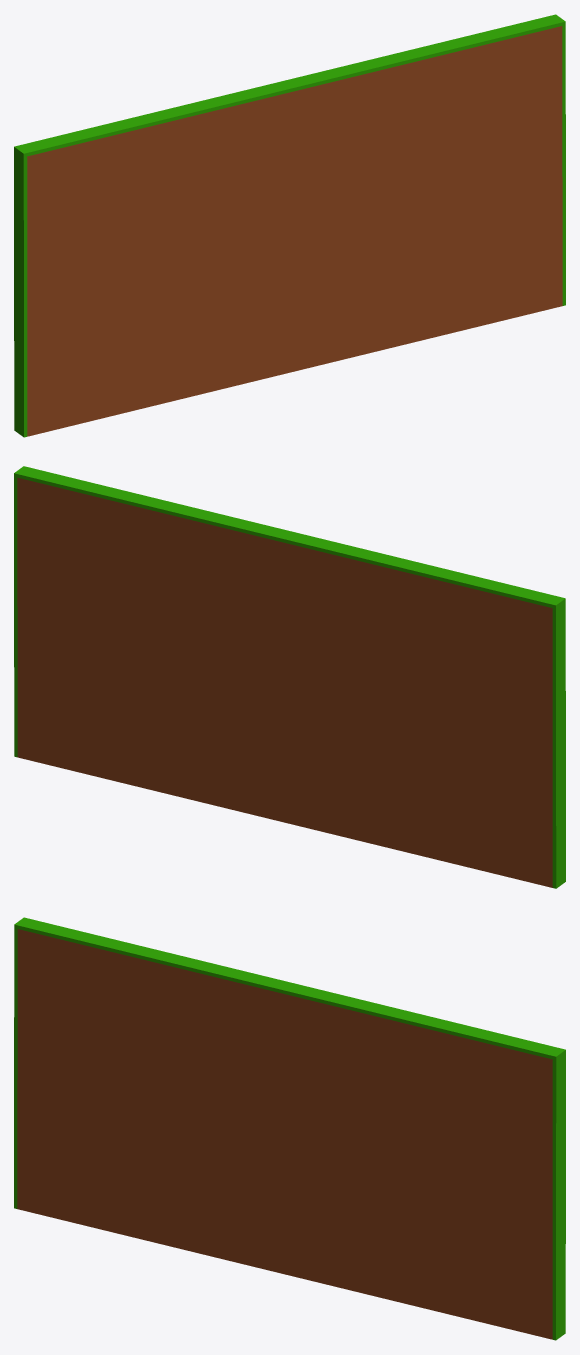
The model's file is BottomWhole.FBX.
The picture shows the model from 3 angles, top to bottom: view 1: azimuth 30°, elevation 25°; view 2: azimuth 150°, elevation 25°; view 3: azimuth 330°, elevation 25°; orthographic projection.
Parts seen in each view (by area): view 1: BottomWhole; view 2: BottomWhole; view 3: BottomWhole.
Part boxes in pixels (box(x1,y1,x2,y2)): BottomWhole: box(14, 14, 565, 437); BottomWhole: box(14, 466, 565, 888); BottomWhole: box(14, 917, 565, 1340).
Size of the model in its own units: 16 by 8 by 0.5125.
